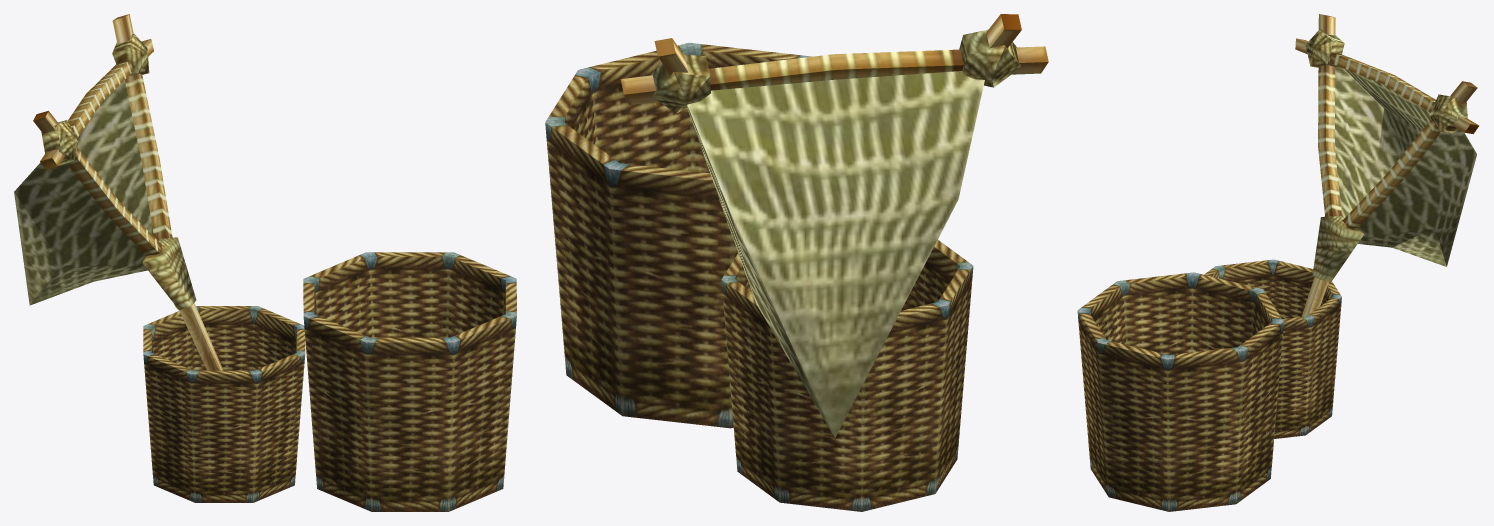
Rendered from pir_m_gam_fsh_fishingSpot_02.fbx.
3 views of the same model, side by side, from view 1: azimuth 30°, elevation 25°; view 2: azimuth 150°, elevation 25°; view 3: azimuth 270°, elevation 25° (orthographic). The views are drawn at different scales.
Visible parts, largest first — view 1: basket_large, basket_small, net, net_woodFrameR, net_woodFrameL, net_ropeKnotMain, net_woodFrameFront, net_woodHandle, net_ropeKnotL, net_ropeKnotR; view 2: net, basket_large, basket_small, net_woodFrameFront, net_ropeKnotR, net_ropeKnotL, net_woodFrameL, net_woodFrameR; view 3: basket_large, net, basket_small, net_woodFrameL, net_woodFrameR, net_ropeKnotMain, net_woodFrameFront, net_ropeKnotR, net_ropeKnotL, net_woodHandle.
Boxes of the visible parts, x1,y1,x2,y2 form: basket_large: (303, 252, 516, 511); basket_small: (143, 306, 305, 502); net: (14, 80, 153, 305); net_woodFrameR: (112, 14, 172, 240); net_woodFrameL: (33, 110, 161, 255); net_ropeKnotMain: (142, 237, 196, 310); net_woodFrameFront: (40, 39, 153, 169); net_woodHandle: (179, 303, 223, 370); net_ropeKnotL: (41, 120, 78, 165); net_ropeKnotR: (112, 34, 149, 75); net: (687, 71, 984, 437); basket_large: (545, 42, 811, 428); basket_small: (721, 240, 973, 511); net_woodFrameFront: (620, 46, 1048, 105); net_ropeKnotR: (650, 54, 710, 113); net_ropeKnotL: (959, 29, 1021, 87); net_woodFrameL: (986, 14, 1021, 47); net_woodFrameR: (654, 38, 688, 74); basket_large: (1077, 272, 1283, 511); net: (1335, 66, 1476, 266); basket_small: (1204, 259, 1341, 438); net_woodFrameL: (1318, 14, 1341, 216); net_woodFrameR: (1342, 81, 1477, 228); net_ropeKnotMain: (1312, 216, 1364, 282); net_woodFrameFront: (1295, 38, 1479, 134); net_ropeKnotR: (1429, 94, 1467, 133); net_ropeKnotL: (1305, 29, 1344, 67); net_woodHandle: (1301, 277, 1328, 316).
Size of the model in its own units: 417 by 371 by 402.
Materials: 2 (2 with a texture image).
